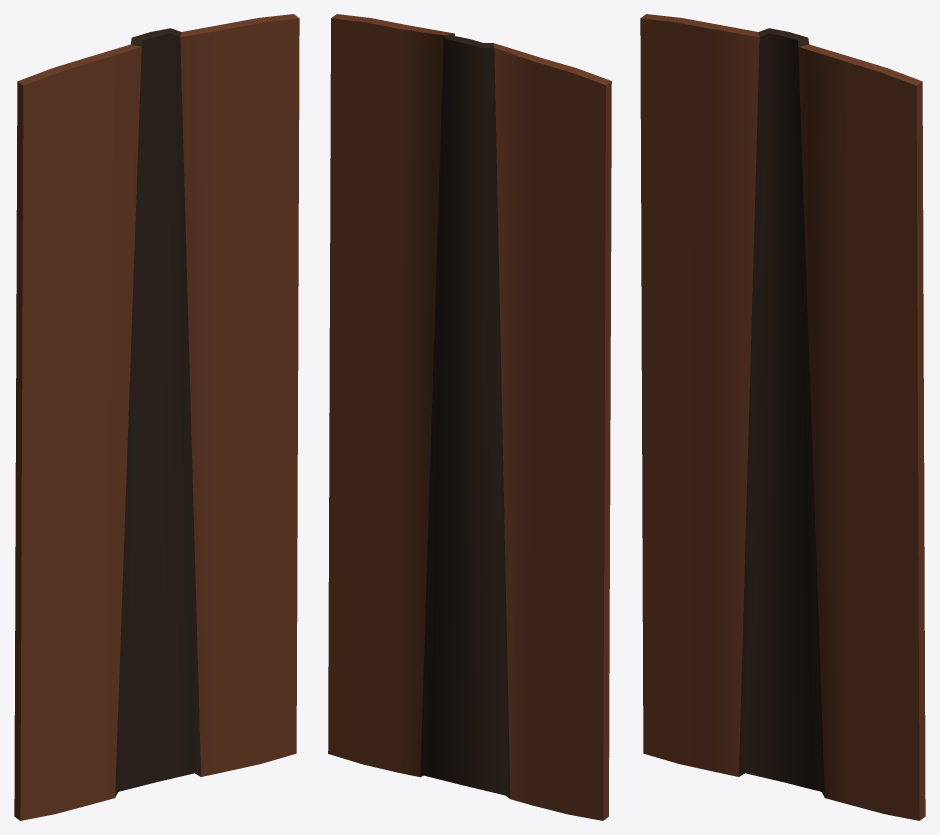
File: motorkap.FBX
The picture shows the model from 3 angles, left to right: view 1: azimuth 30°, elevation 25°; view 2: azimuth 150°, elevation 25°; view 3: azimuth 330°, elevation 25°; orthographic projection.
Parts seen in each view (by area): view 1: motorkap; view 2: motorkap; view 3: motorkap.
Part boxes in pixels (box(x1,y1,x2,y2)): motorkap: box(14, 14, 299, 820); motorkap: box(328, 14, 611, 820); motorkap: box(640, 14, 925, 820).
Size of the model in its own units: 27.01 by 70.17 by 1.83.
